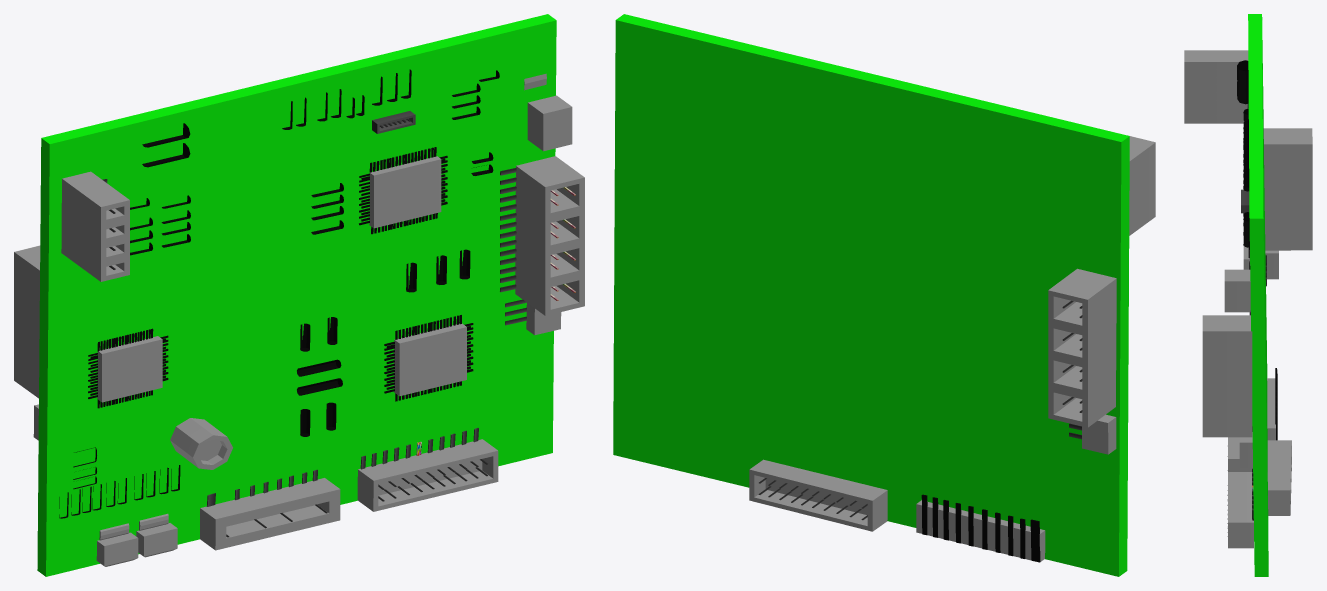
File: SM_Int_CircuitBoard.fbx
3 renders of one model, left to right at view 1: azimuth 30°, elevation 25°; view 2: azimuth 150°, elevation 25°; view 3: azimuth 270°, elevation 25°, orthographic. The views are drawn at different scales.
Parts seen in each view (by area): view 1: SM_Int_CircuitBoard; view 2: SM_Int_CircuitBoard; view 3: SM_Int_CircuitBoard.
Part boxes in pixels (<box>): SM_Int_CircuitBoard: <box>14,14,584,576</box>; SM_Int_CircuitBoard: <box>613,14,1155,576</box>; SM_Int_CircuitBoard: <box>1184,14,1312,576</box>.
Bounding box in the file's own units: 97.86 × 80 × 25.9.
